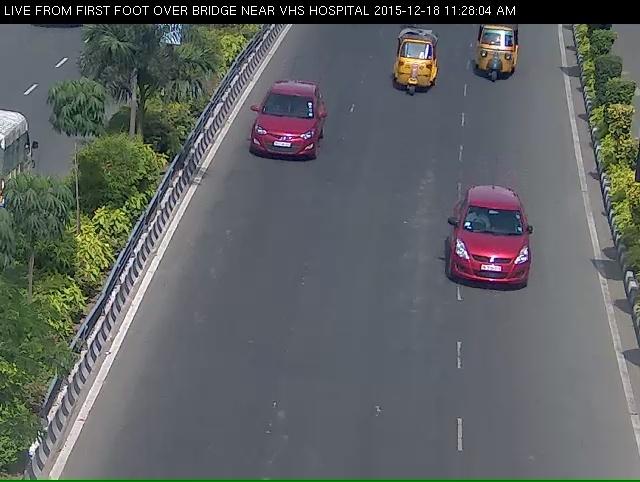Auto: (383, 30, 444, 104), (471, 23, 533, 95)
Car: (448, 193, 547, 306), (239, 89, 325, 182)
